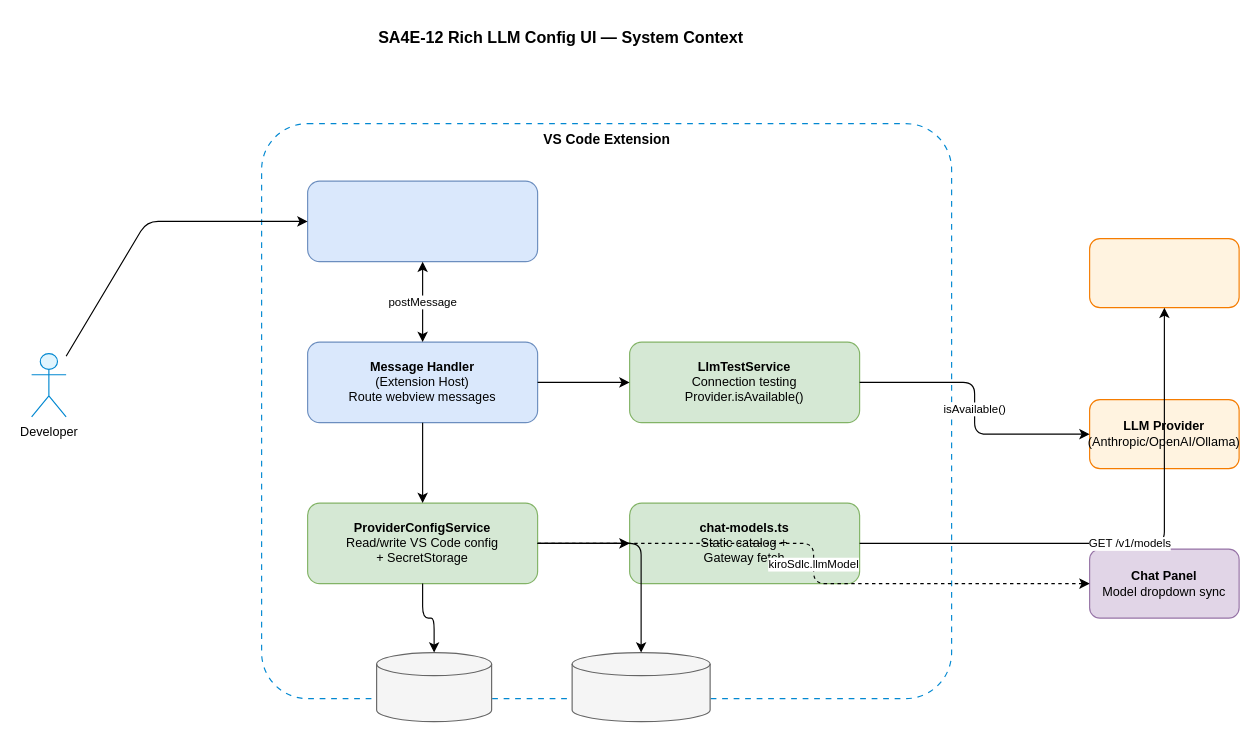
Some shapes in this 1259 by 742 pixel diagram are drawn without their labels. The centre of each missing label's shape, as x and y in pixels:
"LLM Gateway /v1/models" goes at [1163,272].
"SecretStorage" goes at [433,686].
"Settings Panel (Webview UI) Provider/Model/Key config" goes at [422,221].
"VS Code Settings" goes at [640,686].
